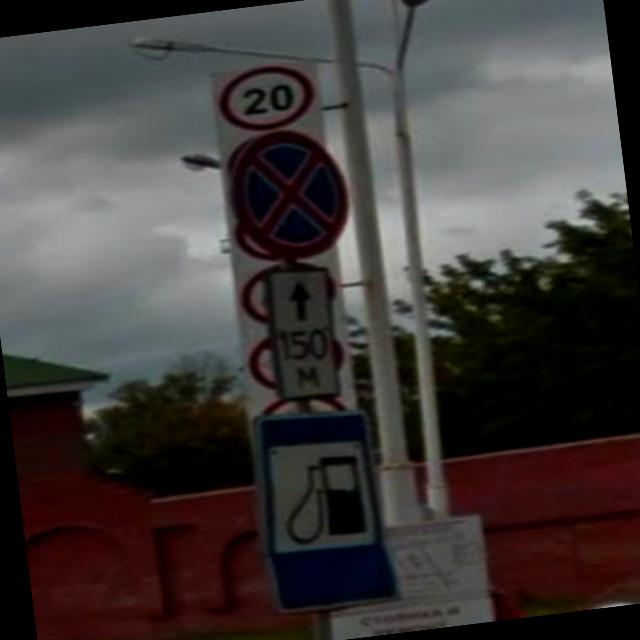Ograniczenie predkosci do 20: (217, 58, 321, 136)
Zakaz zatrzymywania sie: (225, 121, 358, 265)
